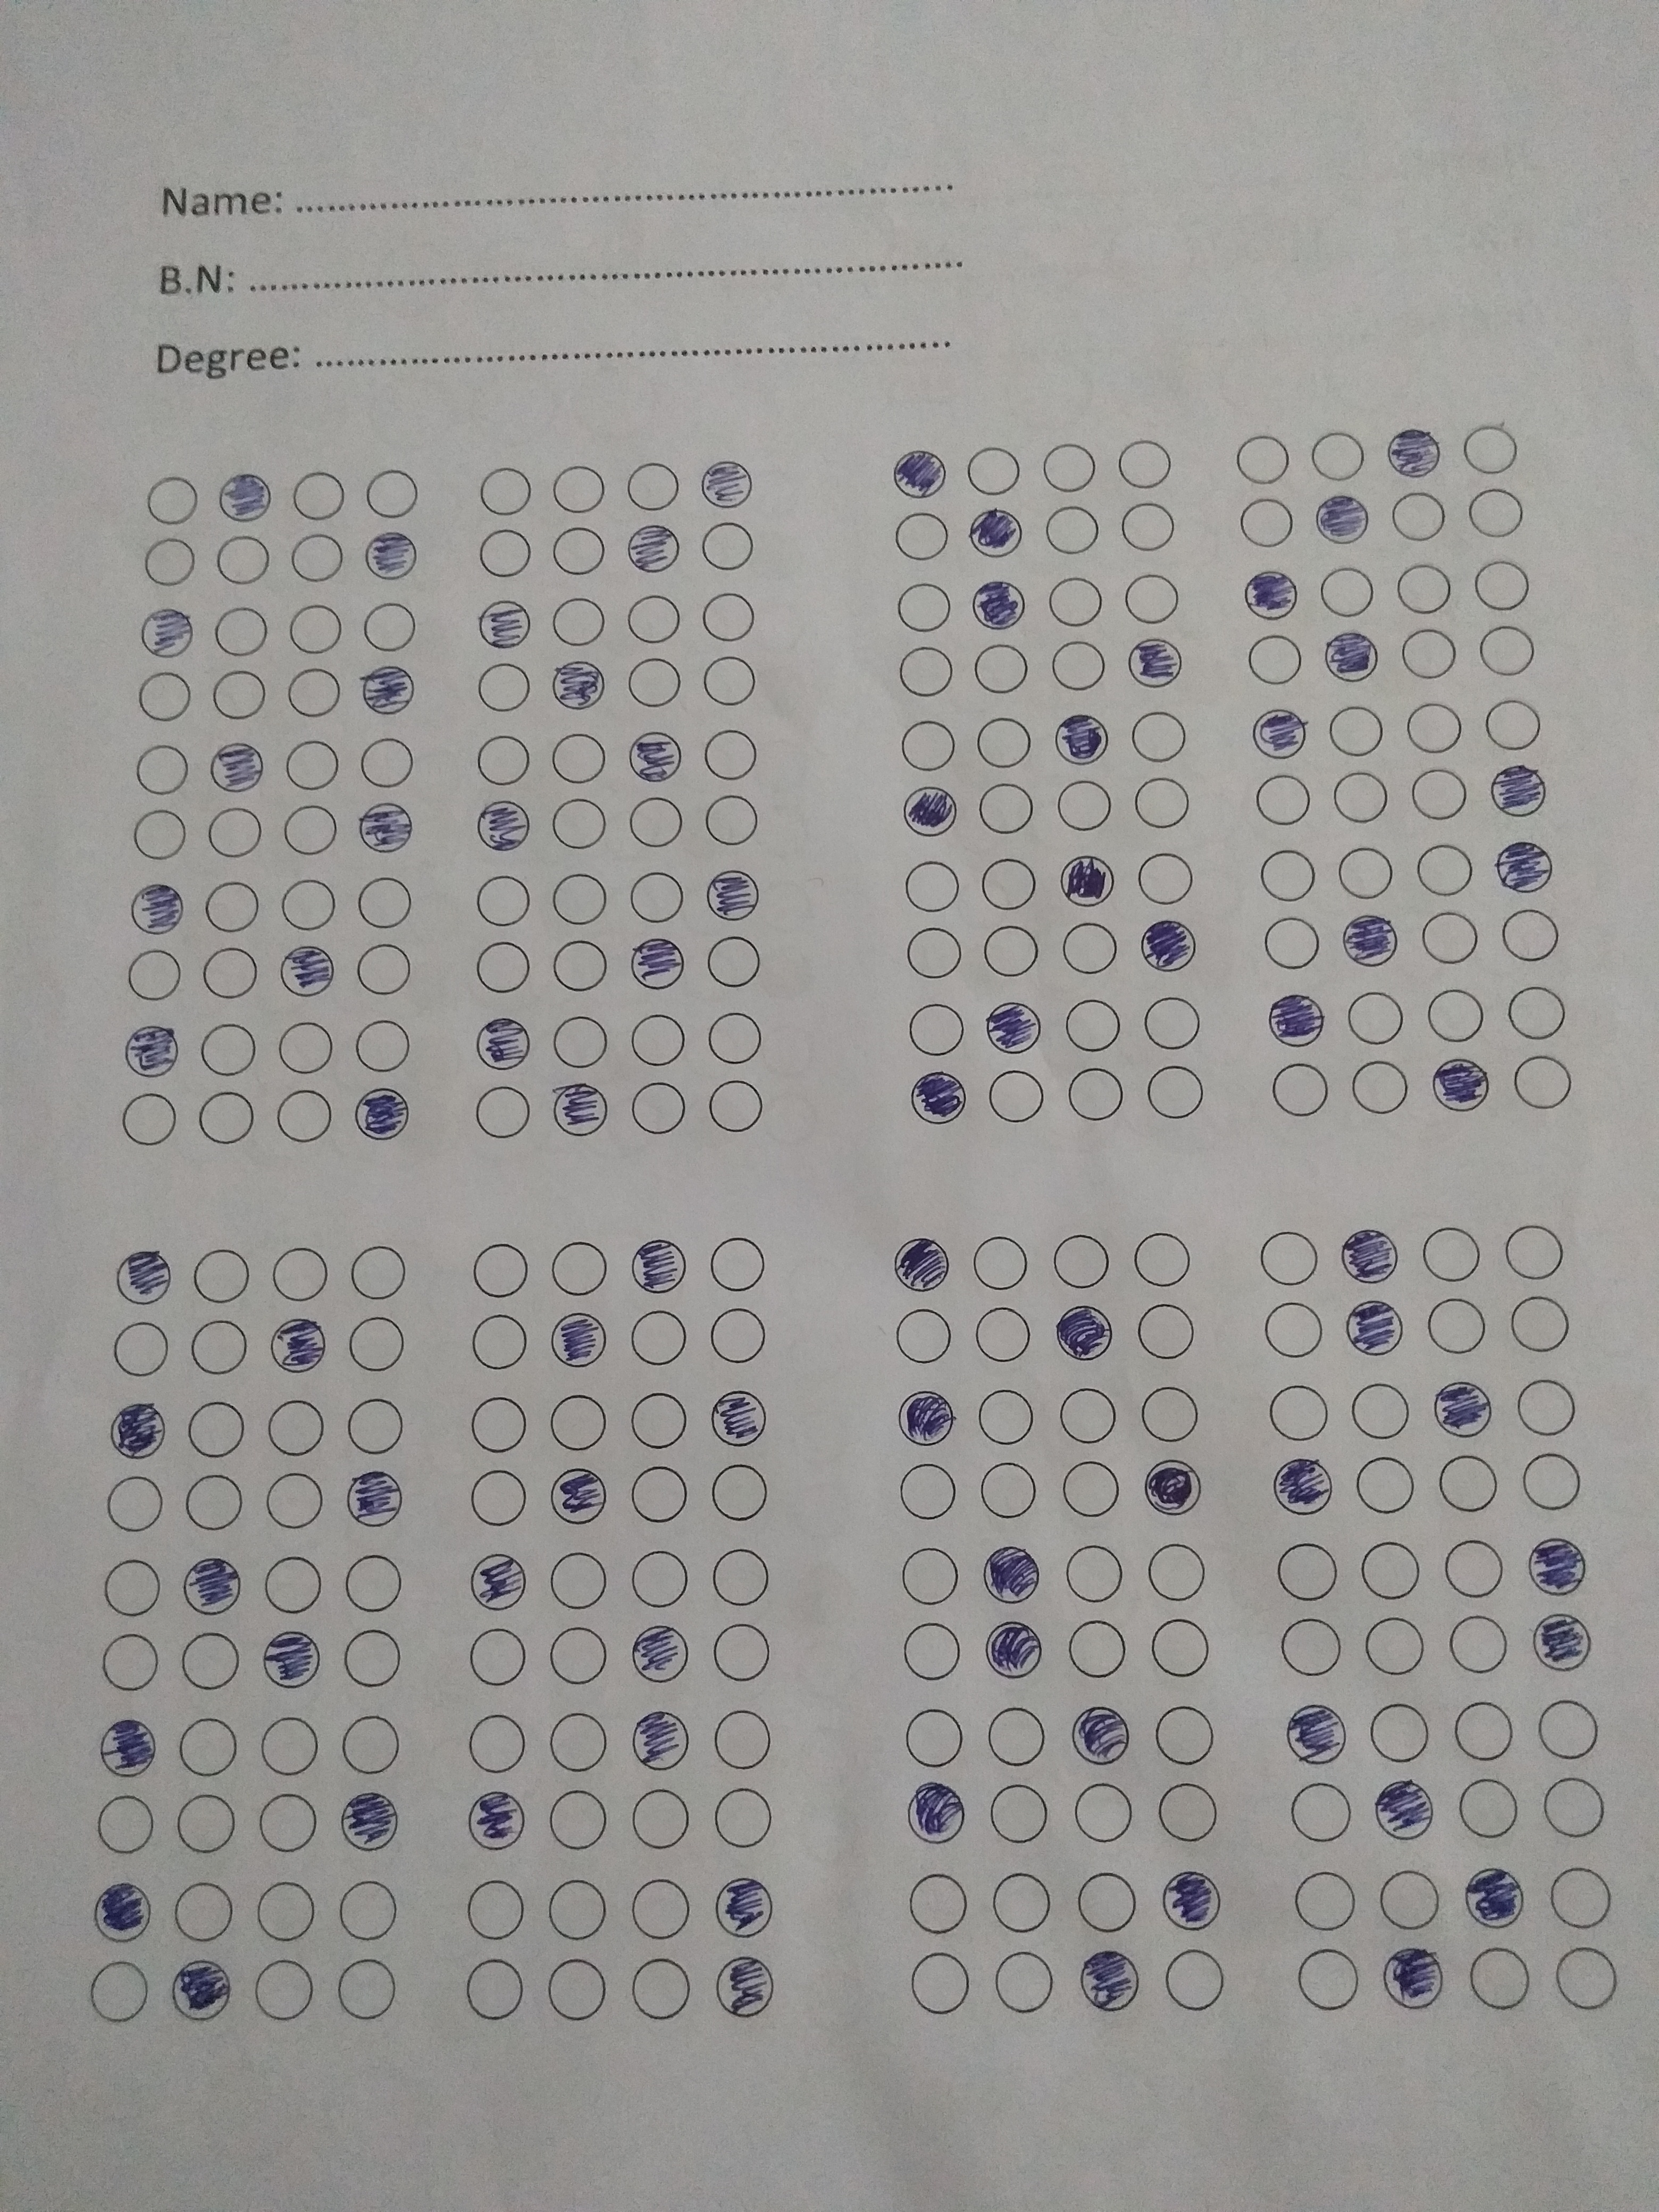not-c: (1255, 913, 1328, 972), (1295, 1869, 1361, 1932), (1441, 1540, 1507, 1602), (1277, 1615, 1344, 1677), (1338, 989, 1405, 1052), (1270, 1059, 1337, 1122), (1258, 1223, 1324, 1285), (1506, 1292, 1572, 1355), (1448, 1698, 1516, 1759), (1286, 1784, 1354, 1844), (1544, 1865, 1612, 1926), (1356, 1538, 1424, 1599), (1506, 1049, 1574, 1109), (1500, 1221, 1568, 1282), (1419, 1228, 1486, 1289), (1366, 1703, 1432, 1764), (1540, 1777, 1607, 1838), (1457, 1777, 1523, 1838), (1375, 1869, 1441, 1930), (1556, 1946, 1622, 2006), (1467, 1947, 1534, 2008), (1295, 1949, 1361, 2010), (1434, 1454, 1500, 1515), (1351, 1453, 1417, 1514), (1274, 1540, 1340, 1601), (1448, 1613, 1514, 1674), (1359, 1613, 1425, 1674), (1534, 1698, 1600, 1759), (1263, 1301, 1330, 1362), (1509, 1378, 1575, 1439), (1349, 1378, 1415, 1439), (1265, 1383, 1331, 1444), (1516, 1449, 1582, 1510), (1415, 982, 1481, 1043), (1345, 1059, 1412, 1120), (1422, 1296, 1488, 1357), (1331, 843, 1398, 904), (1417, 907, 1483, 968), (1502, 981, 1568, 1042), (1408, 840, 1476, 899), (1063, 1543, 1126, 1602), (901, 1545, 964, 1604), (974, 1461, 1037, 1521), (1162, 1951, 1225, 2010), (988, 1785, 1051, 1844), (899, 1622, 962, 1681), (1256, 845, 1319, 904), (1476, 622, 1539, 681), (976, 1386, 1037, 1446), (1253, 770, 1312, 831), (1471, 557, 1532, 617), (1392, 561, 1453, 620), (1317, 561, 1378, 620), (1398, 627, 1459, 686), (1481, 695, 1542, 754), (1060, 1460, 1122, 1517), (897, 1461, 960, 1519), (1136, 1386, 1199, 1444), (1053, 1385, 1115, 1442), (1134, 1305, 1197, 1362), (971, 1306, 1033, 1364), (1129, 1230, 1192, 1287), (990, 1872, 1053, 1930), (906, 1874, 969, 1932), (1155, 1784, 1218, 1841), (1073, 1782, 1136, 1839), (1154, 1707, 1216, 1764), (983, 1707, 1046, 1764), (904, 1707, 967, 1764), (1152, 1618, 1215, 1676), (1065, 1620, 1127, 1677), (1147, 1545, 1209, 1602), (1328, 768, 1391, 826), (1243, 634, 1305, 691), (1406, 766, 1471, 822), (1401, 698, 1462, 756), (892, 1306, 953, 1364), (1051, 1233, 1112, 1291), (992, 1952, 1053, 2010), (908, 1954, 969, 2012), (1077, 1874, 1138, 1932), (1234, 428, 1295, 486), (134, 669, 197, 725), (186, 1249, 249, 1305), (195, 1021, 258, 1076), (354, 941, 416, 996), (352, 874, 415, 930), (281, 665, 343, 721), (261, 1557, 324, 1613), (261, 1472, 324, 1527), (265, 1400, 328, 1456), (256, 1794, 319, 1850), (91, 1796, 153, 1851), (338, 1717, 401, 1773), (343, 1555, 406, 1611), (251, 1961, 314, 2017), (335, 1961, 397, 2017), (1499, 907, 1561, 963), (289, 467, 347, 526), (547, 1627, 606, 1684), (1460, 420, 1520, 477), (141, 472, 202, 528), (272, 1087, 333, 1143), (199, 944, 260, 1000), (124, 948, 185, 1003), (106, 1475, 167, 1531), (253, 1883, 314, 1939), (99, 1634, 160, 1689), (85, 1965, 148, 2019), (193, 1090, 256, 1144), (117, 1094, 179, 1148), (350, 1021, 413, 1075), (274, 1021, 336, 1075), (277, 878, 340, 932), (199, 880, 261, 934), (279, 803, 342, 857), (202, 805, 265, 859), (129, 805, 192, 859), (355, 735, 418, 789), (281, 738, 343, 792), (129, 745, 192, 799), (206, 669, 268, 723), (103, 1561, 166, 1615), (181, 1475, 244, 1529), (343, 1399, 406, 1453), (185, 1402, 247, 1456), (349, 1317, 411, 1371), (188, 1320, 251, 1374), (110, 1322, 173, 1376), (347, 1245, 410, 1299), (169, 1885, 232, 1939), (176, 1721, 239, 1775), (340, 1630, 403, 1684), (179, 1634, 242, 1688), (336, 1885, 399, 1939), (702, 792, 760, 850), (474, 730, 532, 787), (624, 590, 681, 648), (551, 869, 608, 927), (469, 1716, 526, 1773), (1391, 488, 1448, 545), (1307, 430, 1364, 488), (626, 792, 685, 848), (695, 517, 755, 573), (622, 462, 681, 517), (476, 463, 535, 519), (629, 1014, 688, 1069), (704, 935, 763, 991), (551, 939, 610, 995), (547, 1395, 606, 1451), (627, 1308, 687, 1364), (711, 1712, 770, 1768), (711, 1625, 770, 1681), (903, 923, 962, 979), (978, 782, 1037, 838), (972, 641, 1032, 697), (897, 641, 957, 697), (1040, 439, 1100, 495), (969, 1237, 1028, 1292), (1147, 1064, 1206, 1120), (1060, 921, 1119, 977), (1236, 493, 1295, 549), (1467, 484, 1523, 543), (267, 1247, 328, 1301), (176, 1796, 237, 1850), (258, 1719, 319, 1773), (1324, 704, 1385, 758), (361, 465, 418, 521), (465, 1963, 523, 2019), (549, 796, 606, 852), (702, 730, 760, 786), (549, 732, 606, 787), (699, 655, 756, 711), (626, 657, 683, 712), (472, 658, 530, 714), (551, 592, 608, 648), (701, 590, 758, 646), (551, 523, 608, 578), (477, 526, 535, 582), (549, 460, 606, 516), (629, 1080, 687, 1136), (551, 1015, 608, 1071), (706, 1078, 763, 1134), (706, 1014, 763, 1069), (472, 941, 530, 996), (474, 873, 532, 928), (629, 1467, 687, 1522), (709, 1465, 767, 1521), (627, 1392, 685, 1447), (467, 1395, 525, 1451), (469, 1313, 526, 1369), (708, 1306, 765, 1362), (706, 1238, 763, 1294), (549, 1242, 606, 1298), (471, 1245, 528, 1301), (474, 1085, 532, 1141), (549, 1714, 606, 1770), (469, 1629, 526, 1684), (709, 1548, 767, 1604), (631, 1550, 688, 1606), (549, 1554, 606, 1609), (467, 1470, 525, 1526), (465, 1881, 523, 1937), (549, 1881, 606, 1937), (633, 1881, 690, 1937), (549, 1792, 606, 1848), (631, 1792, 688, 1848), (714, 1789, 772, 1844), (633, 1961, 690, 2017), (547, 1961, 605, 2017), (1136, 850, 1194, 906), (981, 853, 1039, 909), (904, 857, 962, 913), (1054, 779, 1112, 834), (1133, 777, 1190, 833), (1131, 709, 1188, 765), (976, 716, 1033, 772), (901, 719, 958, 775), (1049, 637, 1107, 693), (1046, 573, 1103, 629), (1124, 571, 1182, 627), (897, 577, 955, 632), (1121, 502, 1178, 557), (1044, 502, 1101, 557), (894, 509, 951, 564), (1115, 435, 1173, 491), (964, 442, 1021, 498), (1065, 1066, 1122, 1122), (986, 1066, 1044, 1122), (1143, 995, 1201, 1050), (1065, 996, 1122, 1052), (908, 1000, 965, 1055), (983, 923, 1040, 979), (627, 871, 687, 925), (361, 603, 418, 657), (214, 533, 272, 587), (288, 604, 345, 655), (214, 606, 272, 657), (141, 536, 199, 585), (291, 535, 347, 583)
taken-c: (171, 1954, 235, 2024), (1460, 1862, 1525, 1930), (714, 1874, 779, 1940), (1370, 1778, 1436, 1843), (1286, 1700, 1349, 1768), (1380, 1944, 1445, 2008), (713, 1956, 777, 2019), (631, 1709, 694, 1773), (467, 1789, 528, 1855), (981, 1543, 1044, 1606), (1532, 1609, 1595, 1672), (1051, 1301, 1115, 1362), (1141, 1453, 1202, 1517), (1270, 1456, 1335, 1517), (1080, 1947, 1140, 2013), (469, 1552, 532, 1613), (906, 1782, 967, 1844), (1161, 1869, 1222, 1932), (103, 1399, 167, 1458), (631, 1622, 690, 1686), (1431, 1379, 1495, 1439), (1525, 1536, 1589, 1595), (96, 1717, 157, 1778), (340, 1792, 401, 1853), (91, 1883, 152, 1944), (551, 1310, 612, 1371), (983, 1618, 1044, 1679), (261, 1630, 324, 1689), (183, 1555, 242, 1616), (896, 1386, 955, 1447), (1338, 1224, 1398, 1285), (1345, 1294, 1405, 1355), (627, 1237, 690, 1294), (1072, 1702, 1129, 1764), (908, 1069, 971, 1127), (1265, 995, 1330, 1050), (268, 1315, 328, 1374), (892, 1233, 951, 1292), (1140, 914, 1199, 974), (474, 798, 535, 855), (985, 1000, 1046, 1057), (708, 1390, 770, 1446), (1493, 841, 1558, 895), (1058, 850, 1115, 909), (627, 935, 688, 991), (120, 1022, 181, 1078), (1431, 1057, 1492, 1113), (1340, 913, 1401, 968), (1249, 707, 1312, 761), (115, 1251, 173, 1308), (551, 1467, 608, 1524), (551, 657, 610, 712), (472, 1015, 532, 1071), (345, 1472, 404, 1527), (899, 786, 960, 840), (209, 740, 267, 796), (551, 1082, 608, 1137), (355, 1087, 413, 1143), (1488, 763, 1546, 819), (357, 801, 416, 855), (969, 577, 1028, 631), (1053, 714, 1112, 768), (138, 606, 199, 658), (890, 448, 951, 500), (362, 662, 418, 718), (1387, 425, 1443, 481), (364, 529, 422, 583), (701, 456, 758, 510), (967, 507, 1026, 559), (1124, 637, 1183, 690), (277, 948, 338, 998), (474, 599, 535, 650), (704, 869, 760, 923), (1323, 631, 1378, 685), (1316, 493, 1371, 547), (1243, 570, 1302, 620), (627, 523, 681, 577), (131, 881, 186, 934), (218, 470, 272, 523), (629, 730, 683, 782)
